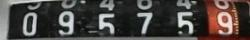digits: (11, 4, 48, 38), (90, 2, 124, 38), (129, 1, 162, 38), (170, 2, 201, 37), (209, 2, 239, 38), (54, 3, 82, 37)
